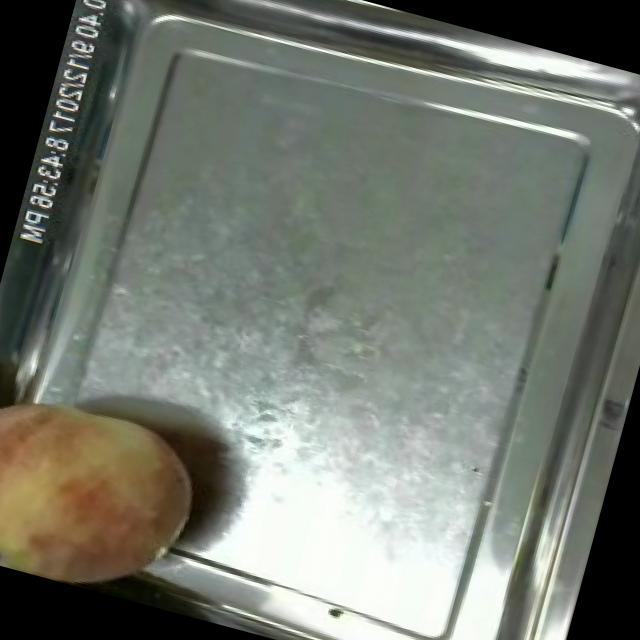Fruit: (0, 357, 220, 611)
